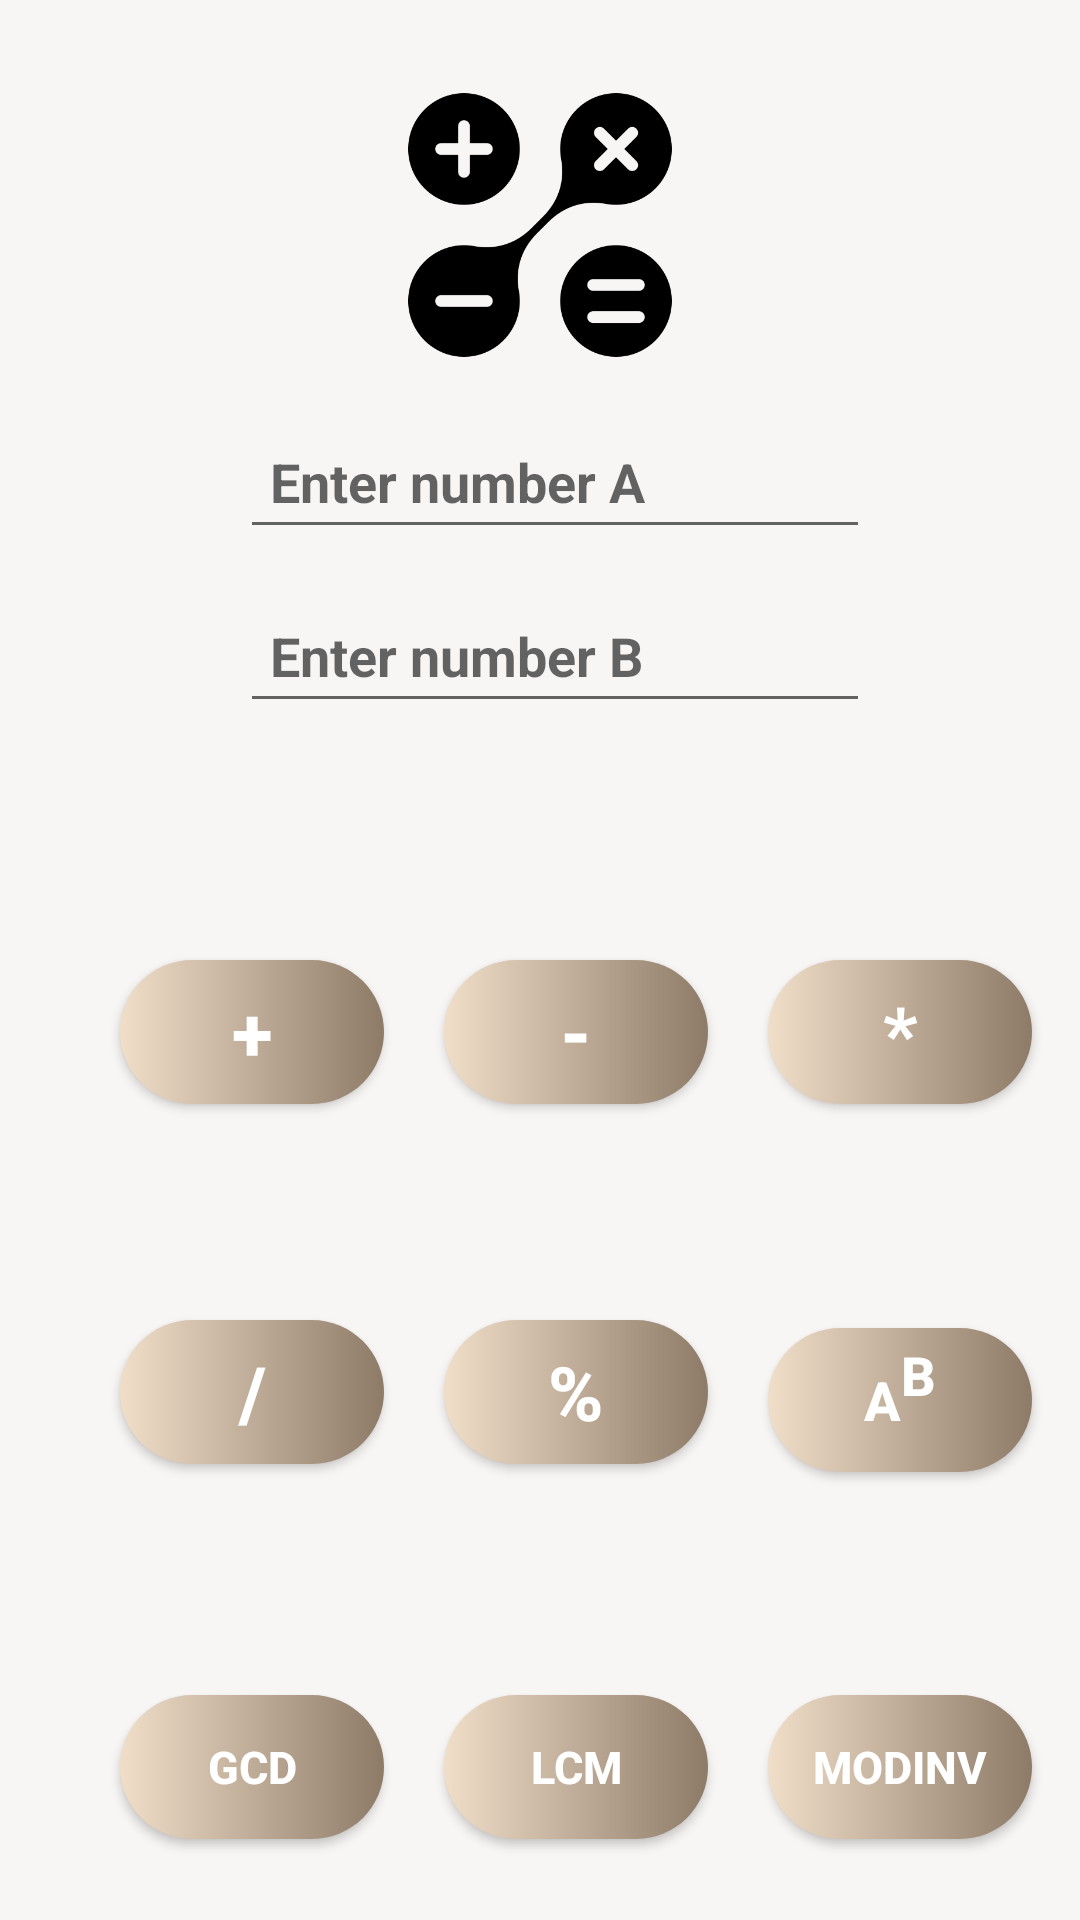

Screen size 1080 × 1920. Icon name, then its center in pixels as (x,y):
calculatorimage: (540,225)
